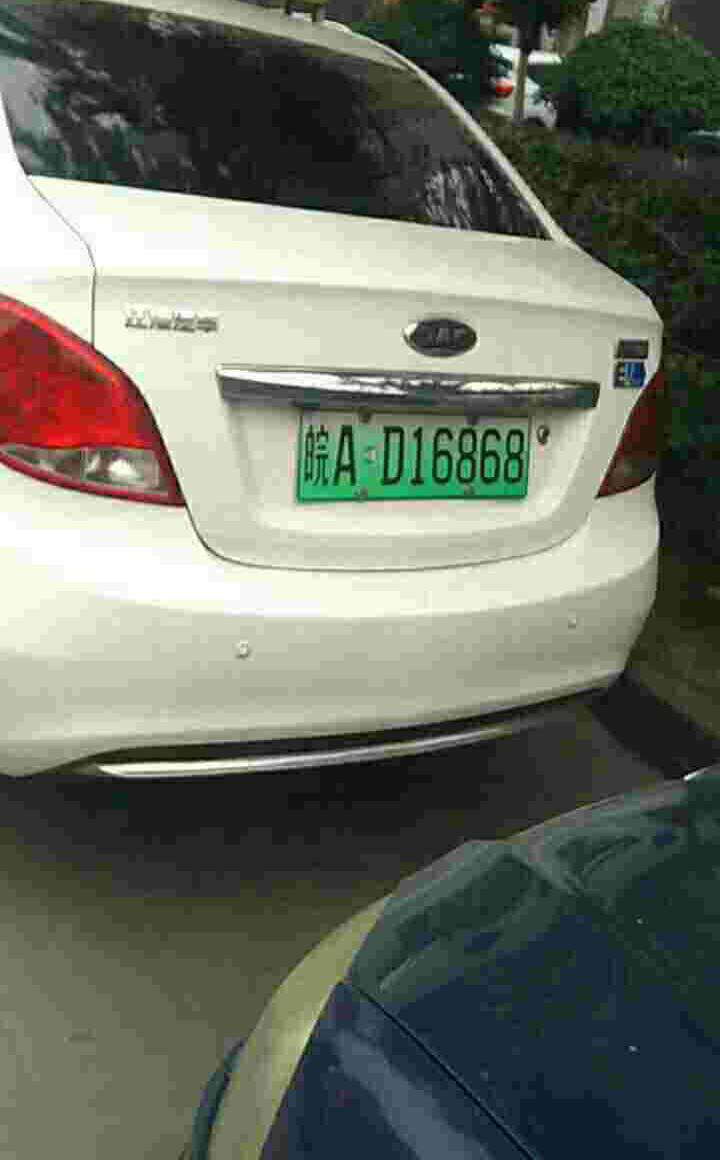car_green: (292, 401, 536, 512)
